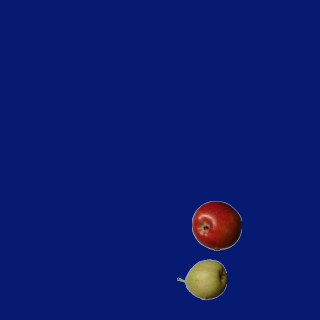Apple Braeburn: (191, 200, 241, 250)
Pear: (176, 254, 226, 304)
